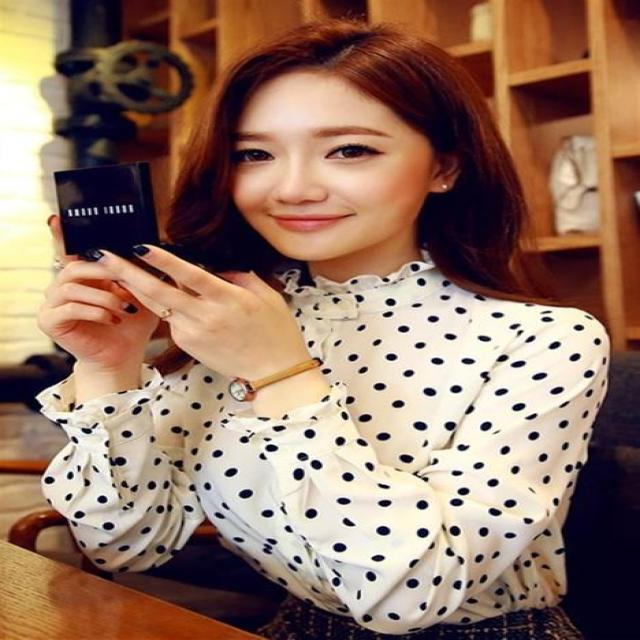long sleeve top: (51, 260, 585, 622)
